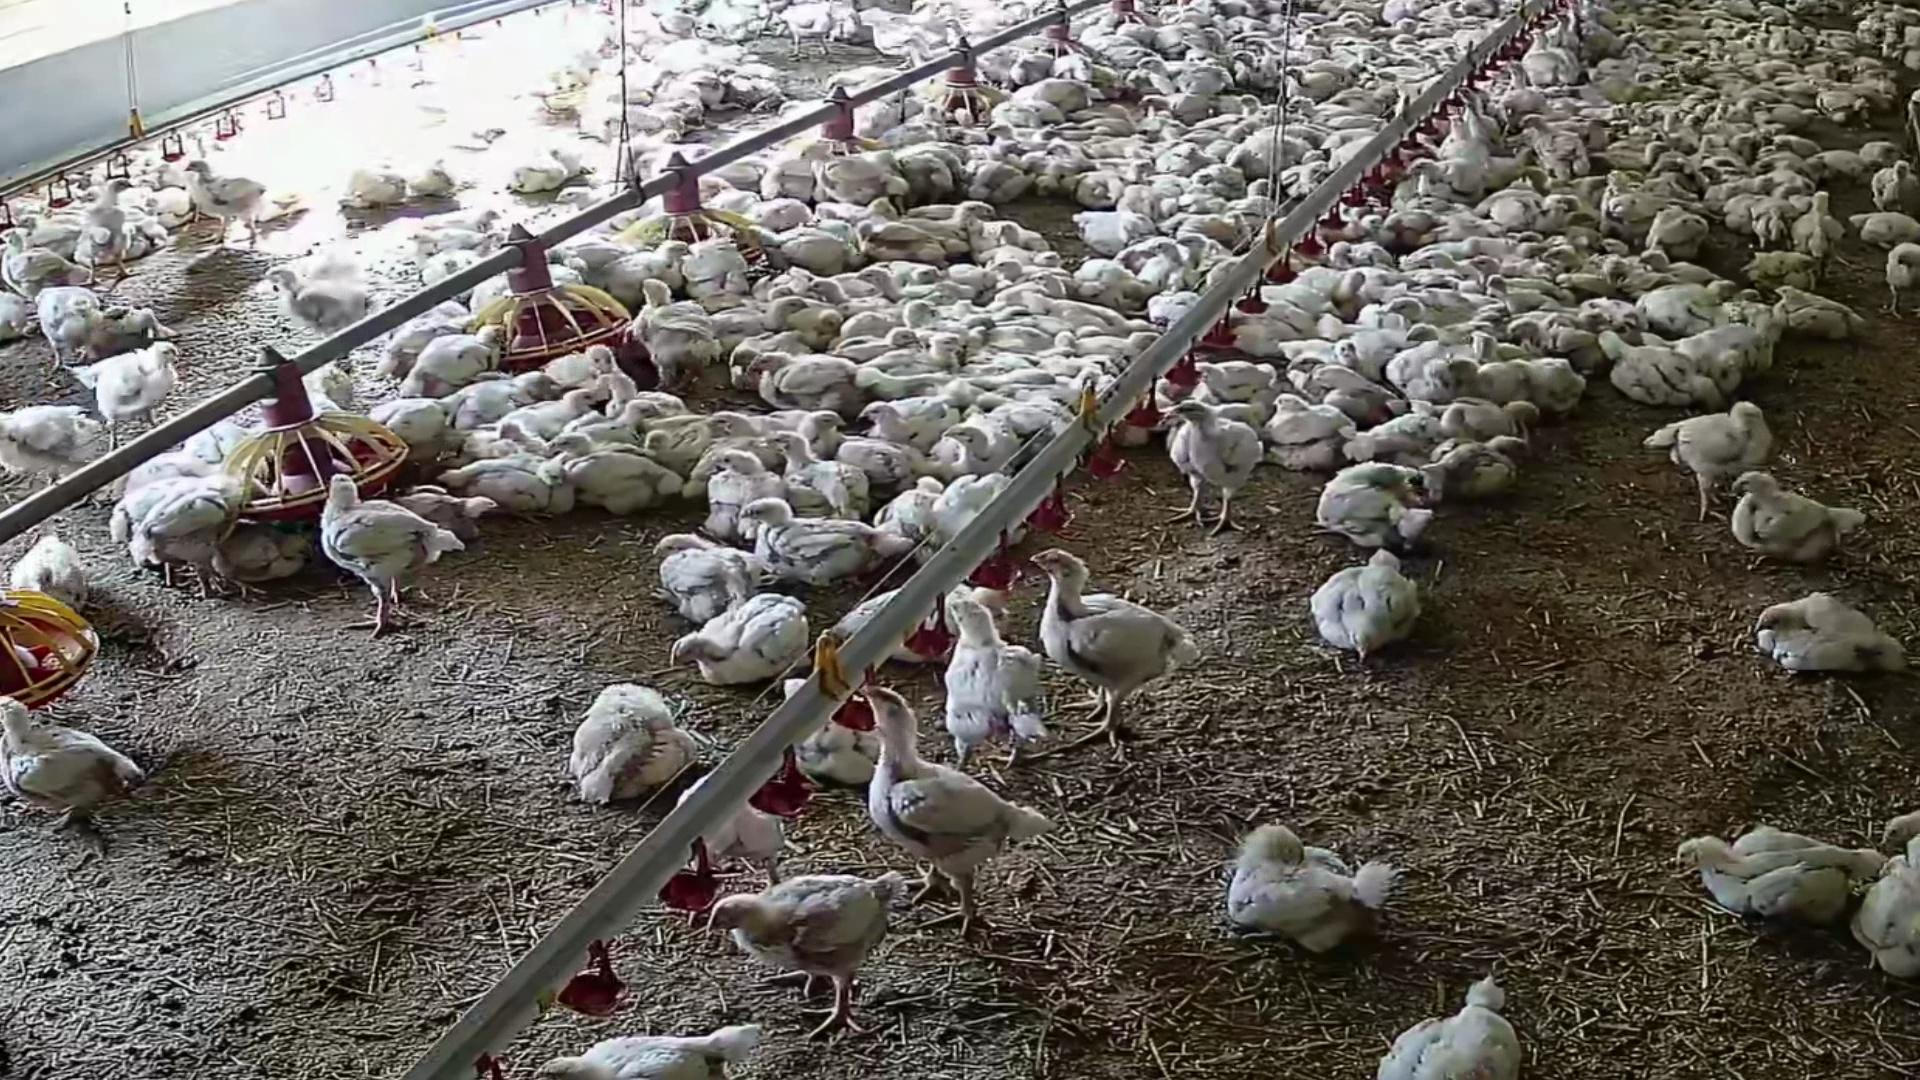poussin: (836, 686, 1042, 923), (1023, 553, 1204, 753), (690, 866, 905, 1033), (0, 691, 149, 844), (1225, 823, 1387, 952), (1662, 823, 1875, 919), (948, 588, 1054, 766), (680, 761, 796, 916), (323, 476, 430, 637), (1377, 977, 1532, 1080), (570, 683, 696, 804), (761, 661, 891, 778), (1648, 400, 1768, 518), (529, 1021, 766, 1080), (670, 592, 812, 690), (748, 495, 898, 583), (1163, 404, 1270, 527), (1305, 549, 1427, 655), (1727, 467, 1865, 560), (824, 576, 1000, 647), (152, 475, 251, 600), (1851, 807, 1920, 988), (1753, 592, 1905, 667), (554, 434, 691, 516), (633, 277, 717, 400), (771, 426, 878, 522), (1604, 330, 1724, 414), (73, 343, 171, 444), (650, 531, 756, 622), (0, 407, 99, 502), (8, 527, 94, 632), (276, 265, 376, 353), (115, 467, 224, 547), (438, 456, 576, 516), (409, 316, 516, 392), (181, 413, 287, 488), (1644, 316, 1775, 377), (1308, 473, 1424, 541), (386, 488, 504, 549), (1433, 430, 1530, 504), (1307, 364, 1416, 426), (753, 349, 866, 409), (282, 356, 368, 431), (211, 524, 314, 585), (0, 229, 88, 301), (1278, 386, 1345, 477), (193, 158, 257, 251), (935, 479, 1014, 554), (91, 302, 186, 361), (1436, 397, 1556, 443), (717, 444, 775, 538), (831, 427, 920, 487), (92, 169, 137, 285), (42, 285, 103, 369), (450, 375, 547, 426), (683, 233, 752, 305), (873, 476, 936, 553), (713, 298, 800, 353), (600, 244, 694, 295), (748, 224, 852, 270), (1523, 113, 1588, 187), (1511, 319, 1611, 365), (1039, 290, 1143, 334), (365, 404, 447, 459), (1456, 352, 1520, 422), (1353, 406, 1440, 458), (603, 371, 683, 426), (640, 411, 728, 462), (1638, 280, 1746, 320), (816, 157, 895, 211), (1520, 355, 1588, 415), (905, 200, 1001, 243), (1484, 193, 1582, 233), (945, 419, 1013, 477), (334, 162, 415, 210), (1774, 285, 1859, 330), (1406, 156, 1497, 198), (878, 334, 972, 375), (539, 339, 618, 386), (742, 335, 815, 386), (1497, 58, 1555, 120), (790, 1, 847, 65), (563, 229, 640, 276), (1302, 265, 1408, 298), (860, 220, 943, 262), (505, 392, 600, 429), (862, 405, 945, 447), (977, 256, 1063, 297), (1139, 57, 1233, 94), (731, 193, 814, 233), (767, 407, 851, 448), (866, 265, 968, 298), (1390, 320, 1495, 352), (1867, 158, 1920, 218), (959, 165, 1030, 208), (721, 66, 775, 123), (1742, 251, 1818, 290), (1527, 26, 1582, 80), (510, 152, 571, 200), (835, 324, 919, 359), (1232, 138, 1309, 175), (1075, 211, 1154, 247), (783, 302, 855, 342), (1229, 179, 1284, 229), (1230, 316, 1308, 352), (1490, 273, 1560, 313), (1647, 204, 1702, 253), (1068, 170, 1130, 214), (711, 413, 783, 450), (1607, 195, 1667, 240), (767, 154, 812, 214), (1746, 194, 1799, 244), (891, 158, 956, 199), (1882, 247, 1920, 315), (1445, 107, 1487, 169), (421, 231, 520, 257), (400, 161, 463, 202), (990, 214, 1051, 256), (1478, 256, 1549, 291), (1011, 79, 1091, 111), (1093, 280, 1171, 311), (992, 405, 1063, 439), (1809, 84, 1869, 125), (857, 87, 913, 131), (1803, 193, 1838, 260), (1555, 7, 1597, 63), (1589, 256, 1662, 289), (1054, 138, 1127, 170), (975, 320, 1067, 345), (1225, 303, 1320, 327), (1, 287, 37, 351), (696, 186, 770, 216), (1638, 255, 1718, 282), (1287, 344, 1367, 372), (1072, 334, 1156, 360), (546, 185, 622, 214), (808, 203, 901, 227), (404, 229, 491, 255), (1205, 365, 1286, 392), (1257, 287, 1332, 315), (1813, 142, 1895, 167), (1850, 214, 1920, 243), (1087, 59, 1134, 102), (1847, 71, 1902, 108), (891, 116, 945, 153), (1667, 132, 1717, 171), (977, 40, 1021, 84), (694, 67, 741, 108), (1600, 141, 1669, 169), (1000, 99, 1069, 127), (1287, 65, 1336, 104), (553, 138, 599, 179), (1382, 294, 1449, 322), (1010, 42, 1054, 84), (1286, 156, 1333, 194), (630, 152, 679, 189), (1379, 206, 1441, 235), (810, 273, 877, 299), (1584, 49, 1654, 74), (1080, 260, 1133, 293), (1611, 80, 1669, 109), (1336, 240, 1402, 265), (1134, 95, 1212, 116), (1762, 157, 1834, 179), (1193, 166, 1249, 195), (454, 123, 514, 149), (835, 298, 902, 322), (1342, 15, 1406, 40), (1113, 18, 1159, 53), (1240, 51, 1284, 86), (890, 301, 936, 334), (1724, 128, 1763, 166), (1121, 182, 1160, 220), (1040, 352, 1117, 372), (615, 127, 684, 148), (988, 123, 1038, 152), (1329, 131, 1377, 161), (1756, 105, 1811, 132), (1411, 252, 1477, 273), (418, 261, 476, 285), (1725, 193, 1763, 228), (1179, 229, 1211, 272), (1156, 18, 1189, 58), (1346, 266, 1366, 330), (1055, 116, 1134, 132), (975, 371, 1060, 385), (1626, 41, 1680, 63), (1292, 353, 1336, 381), (1163, 150, 1220, 171), (1234, 92, 1283, 116), (1288, 99, 1354, 116), (425, 211, 502, 225), (1544, 247, 1597, 268), (1630, 71, 1684, 91), (1153, 236, 1179, 276), (1453, 236, 1523, 251), (1087, 20, 1120, 50), (1064, 55, 1093, 90), (1709, 40, 1741, 69), (752, 284, 798, 303), (1104, 46, 1160, 62), (1205, 30, 1237, 58), (1005, 392, 1087, 402), (1908, 91, 1920, 164), (1092, 34, 1146, 50), (1671, 94, 1706, 117), (1556, 273, 1601, 291), (918, 141, 975, 156), (1774, 136, 1821, 153), (1422, 51, 1452, 78), (1371, 65, 1414, 83), (671, 145, 724, 160), (1750, 18, 1780, 42), (909, 262, 944, 282), (1249, 37, 1283, 57), (1129, 160, 1150, 191), (1035, 247, 1058, 272), (1201, 144, 1244, 154), (1659, 16, 1705, 25), (1184, 132, 1230, 141), (1449, 41, 1465, 62), (1607, 241, 1635, 253), (1742, 34, 1756, 49)
